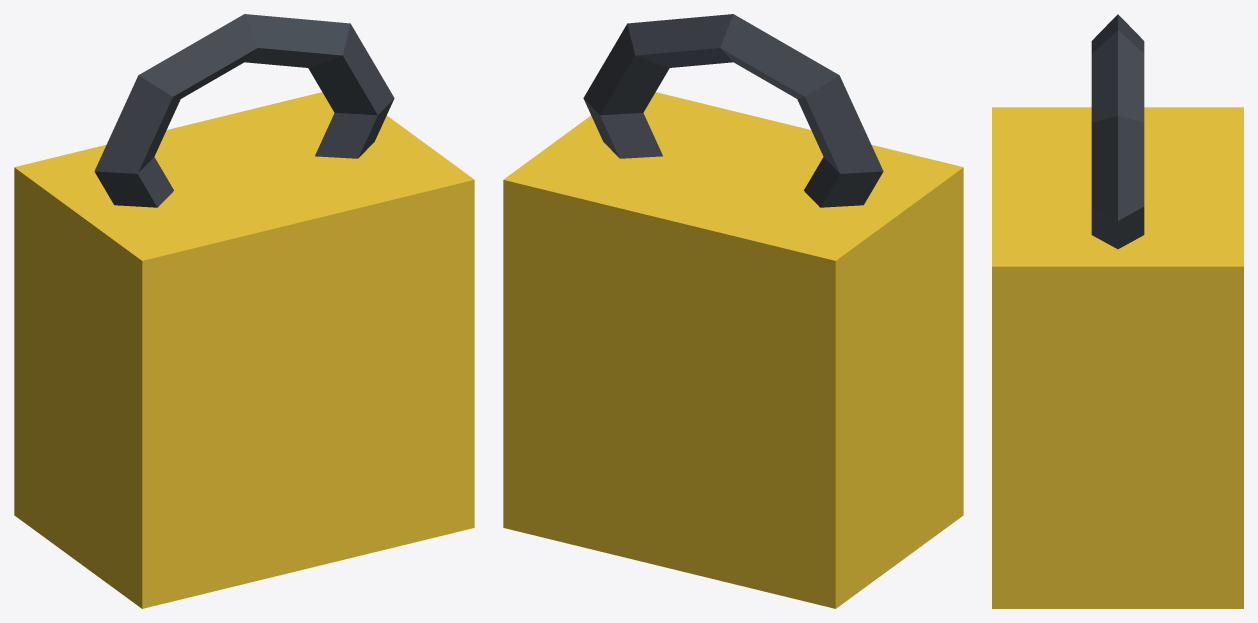
Rendered from delivery_bag.glb.
The picture shows the model from 3 angles, left to right: view 1: azimuth 30°, elevation 25°; view 2: azimuth 150°, elevation 25°; view 3: azimuth 270°, elevation 25°; orthographic projection.
Parts seen in each view (by area): view 1: delivery_bag; view 2: delivery_bag; view 3: delivery_bag.
Part boxes in pixels (<box>): delivery_bag: <box>14,14,474,608</box>; delivery_bag: <box>503,14,963,608</box>; delivery_bag: <box>992,14,1243,608</box>.
Bounding box in the file's own units: 0.36 × 0.525 × 0.24.
